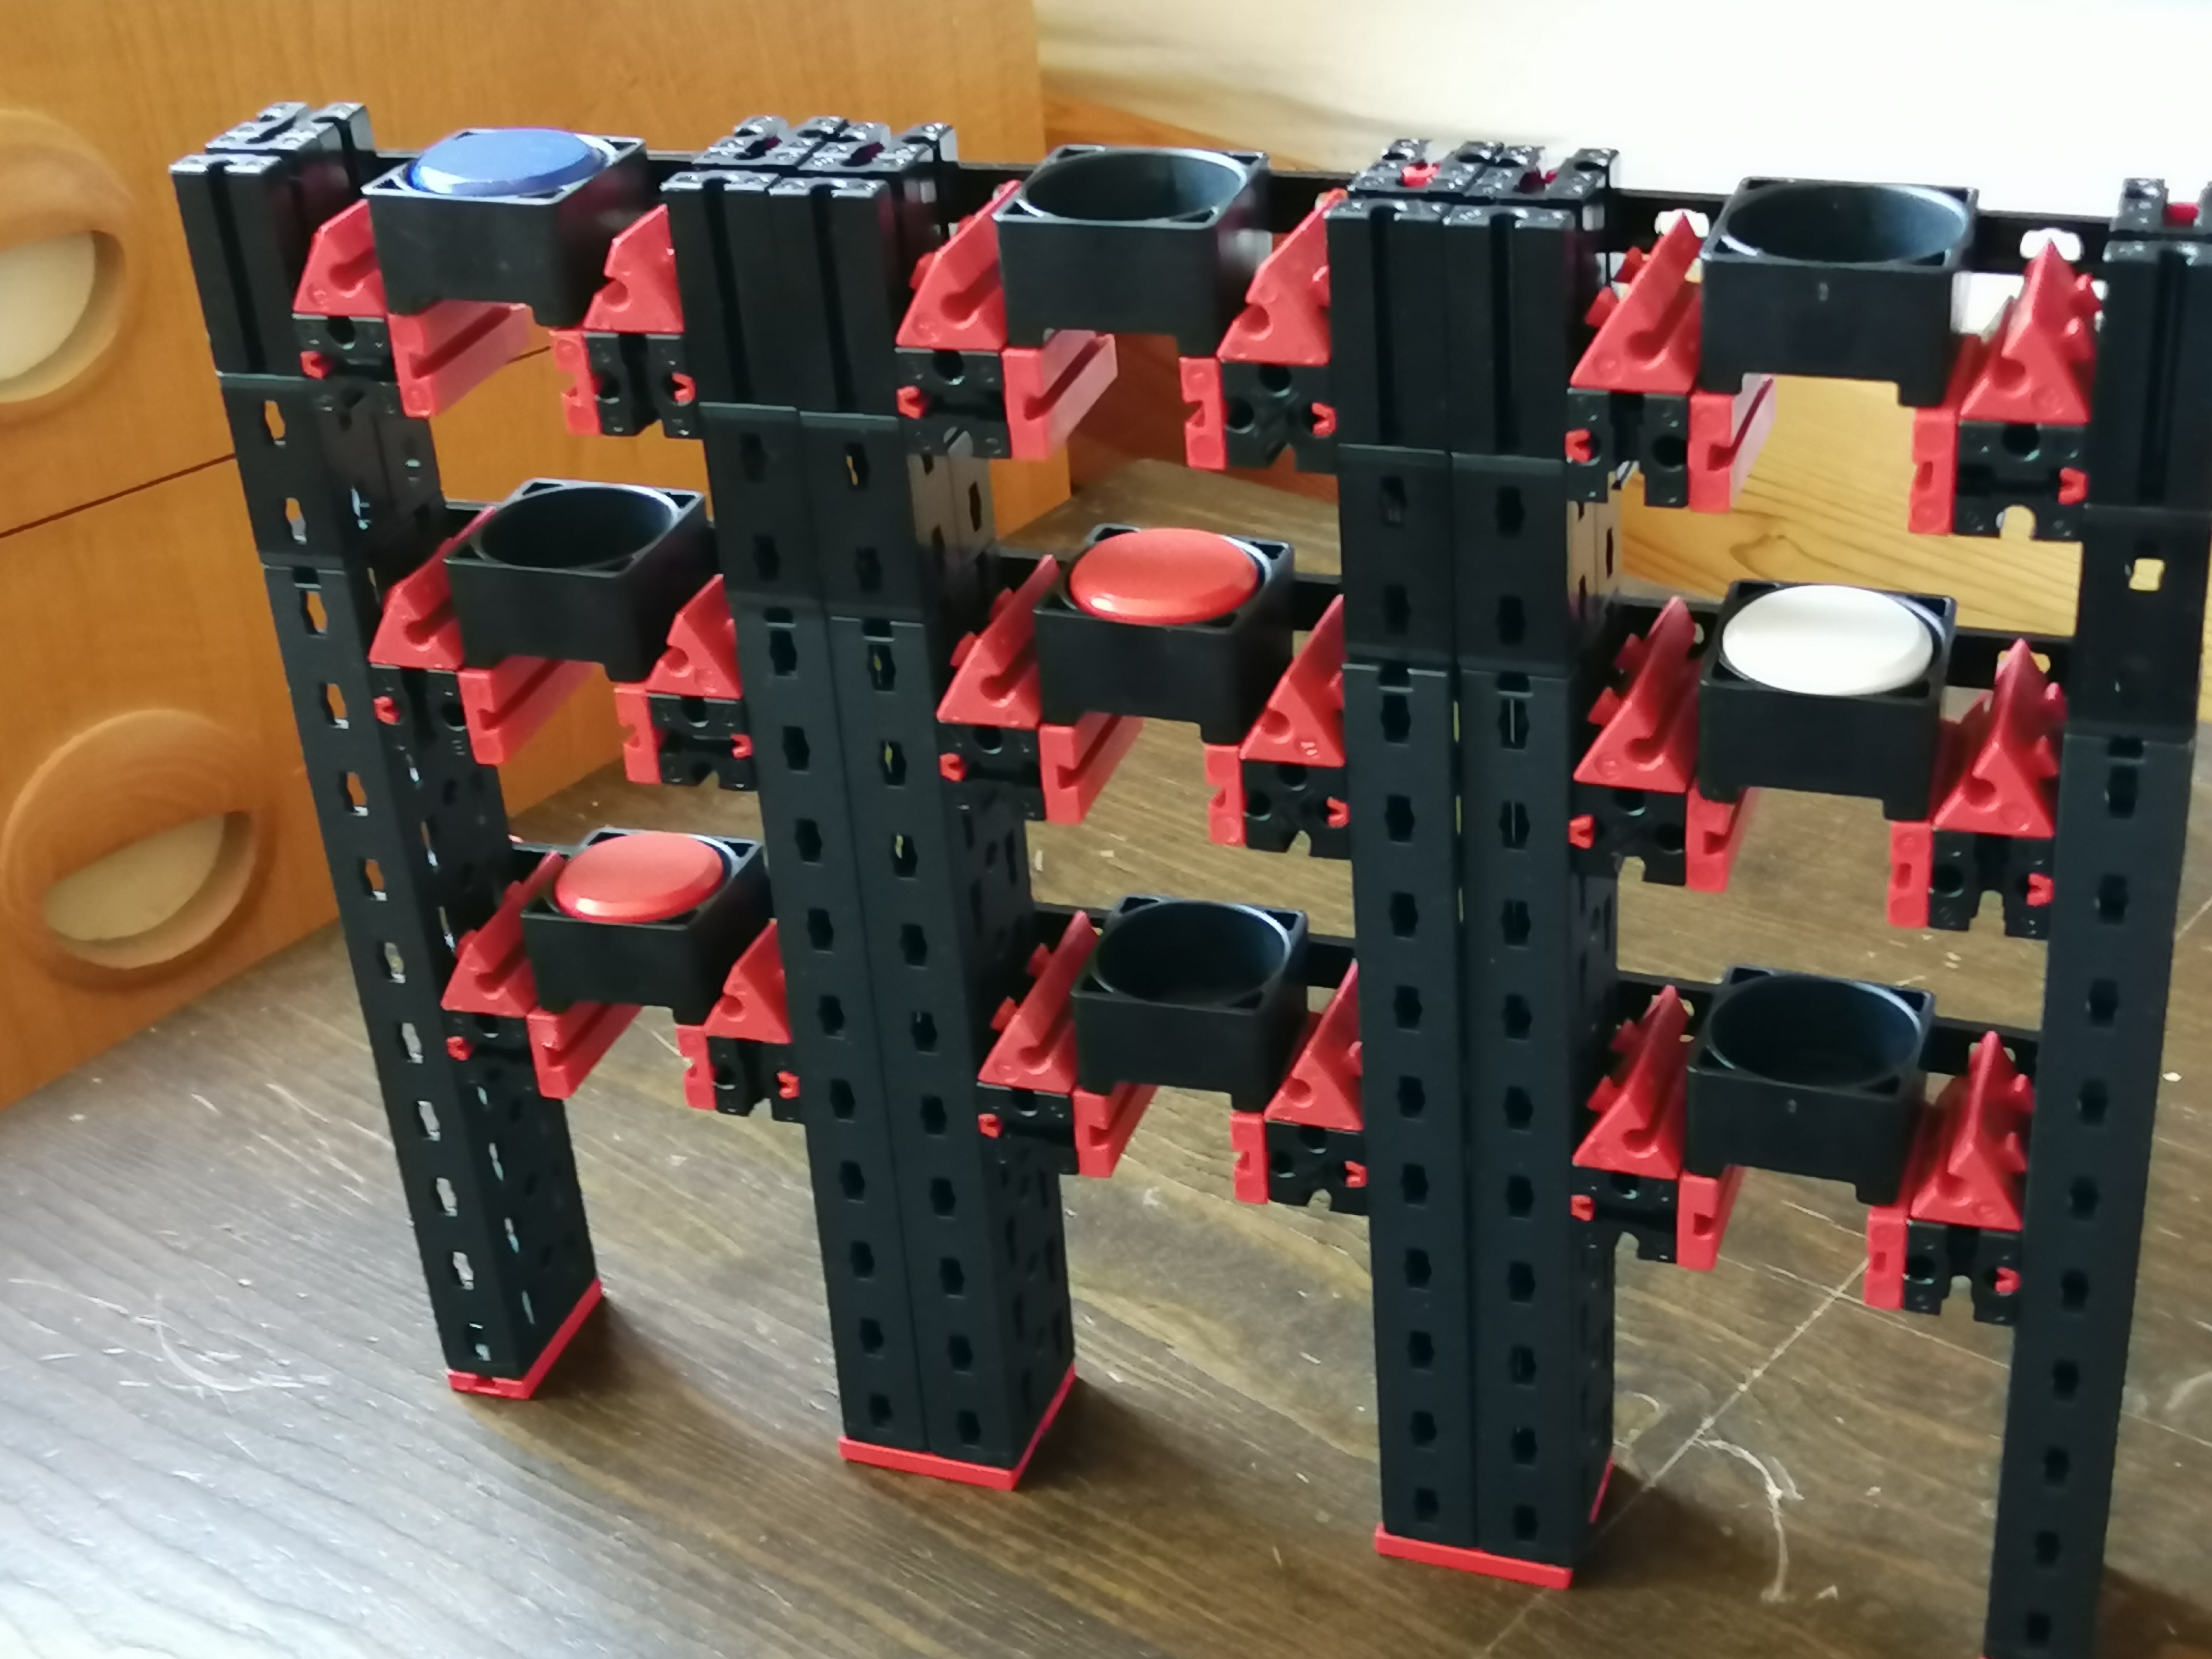Behaelter: (1698, 183, 1952, 399), (1700, 969, 1911, 1195), (1707, 584, 1918, 809), (1008, 145, 1223, 343), (1087, 903, 1289, 1105), (460, 484, 665, 674), (1043, 559, 1252, 734), (402, 143, 599, 319), (529, 842, 711, 1012)
WerkStueck: (1733, 587, 1925, 701), (1076, 528, 1252, 626), (564, 835, 721, 918), (418, 134, 590, 200)
